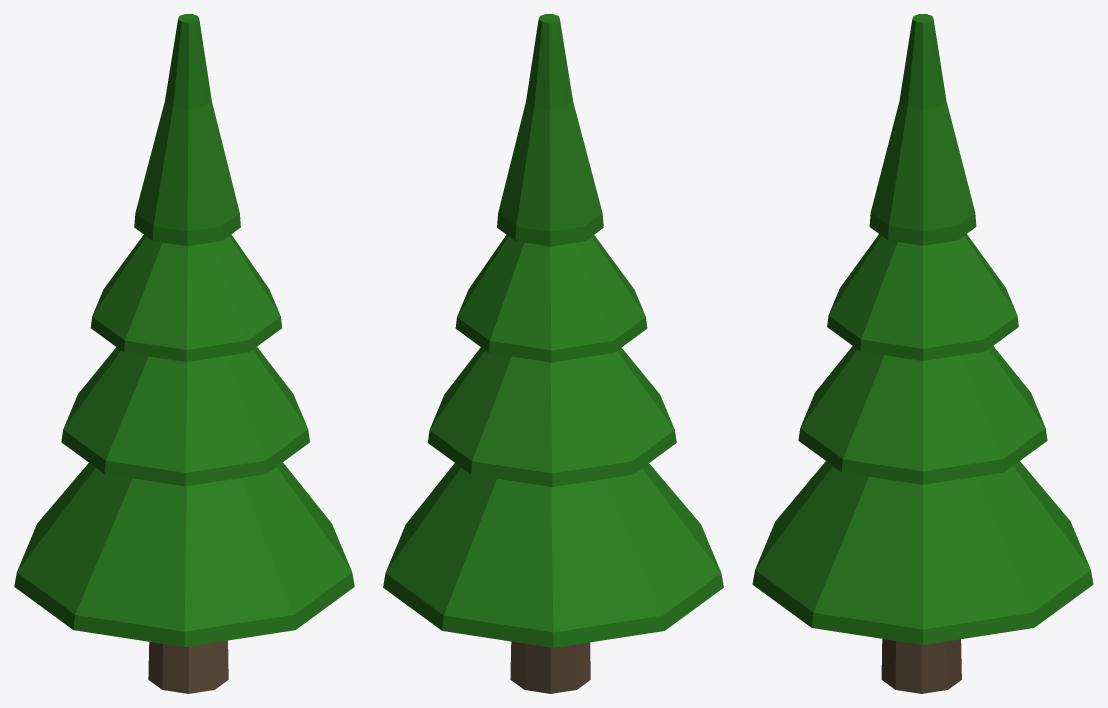
Rendered from fir2.fbx.
The picture shows the model from 3 angles, left to right: view 1: azimuth 30°, elevation 25°; view 2: azimuth 150°, elevation 25°; view 3: azimuth 270°, elevation 25°; orthographic projection.
Parts seen in each view (by area): view 1: pCylinder1; view 2: pCylinder1; view 3: pCylinder1.
Part boxes in pixels (bbox=[...]): pCylinder1: bbox=[14, 14, 354, 693]; pCylinder1: bbox=[383, 14, 723, 693]; pCylinder1: bbox=[752, 14, 1093, 693].
Bounding box in the file's own units: 17.91 × 38.77 × 18.19.
